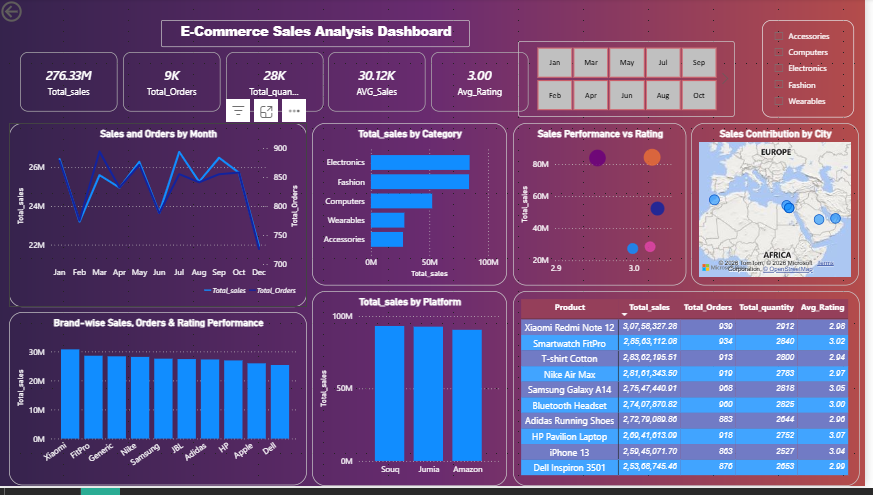

Layout of this report page (visuals, bound fields, positions):
{"tool":"powerbi","page":{"name":"Page 1","canvas":[1280,720],"ordinal":0},"visuals":[{"type":"actionButton","box":[0,0,100,40],"z":0},{"type":"cardVisual","fields":{"Data":["City.Total_sales"]},"box":[32,80,144,88],"z":1000},{"type":"cardVisual","fields":{"Data":["City.Total_Orders"]},"box":[184,80,144,88],"z":2000},{"type":"cardVisual","fields":{"Data":["City.Total_quantity"]},"box":[336,80,144,88],"z":3000},{"type":"cardVisual","fields":{"Data":["City.AVG_Sales"]},"box":[488,80,144,88],"z":4000},{"type":"cardVisual","fields":{"Data":["City.Avg_Rating"]},"box":[640,80,144,88],"z":5000},{"type":"lineChart","title":"Sales and Orders by Month","fields":{"Y":["City.Total_sales"],"Y2":["City.Total_Orders"],"Category":["calender_table.Month_Name"]},"box":[16,184,440,272],"z":6000},{"type":"clusteredBarChart","fields":{"Category":["products.Category"],"Y":["City.Total_sales"]},"box":[464,184,288,240],"z":7000},{"type":"columnChart","title":"Brand-wise Sales, Orders & Rating Performance","fields":{"Y":["City.Total_sales"],"Category":["products.Brand"]},"box":[16,464,440,256],"z":8000},{"type":"columnChart","fields":{"Category":["Platform.Platform"],"Y":["City.Total_sales"]},"box":[464,432,288,288],"z":9000},{"type":"map","title":"Sales Contribution by City","fields":{"Category":["City.City"],"Size":["City.Total_sales"]},"box":[1024,184,248,240],"z":10000},{"type":"scatterChart","title":"Sales Performance vs Rating","fields":{"X":["City.Avg_Rating"],"Y":["City.Total_sales"],"Size":["City.Total_Orders"],"Series":["products.Category"]},"box":[760,184,256,240],"z":10001},{"type":"pivotTable","fields":{"Rows":["sales.Product"],"Values":["City.Total_sales","City.Total_Orders","City.Total_quantity","City.Avg_Rating"]},"box":[760,432,512,288],"z":10002},{"type":"slicer","fields":{"Values":["calender_table.Month_Name"]},"box":[792,72,328,104],"z":10003},{"type":"slicer","fields":{"Values":["products.Category"]},"box":[1128,32,136,144],"z":10004},{"type":"textbox","title":"E-Commerce Sales Analysis Dashboard","box":[240,32,456,40],"z":10005}]}

Visuals, with their boxes in screenshot pixels (x1, y1, x2, y2), scaled from the page's 1280x720 canvas onto the 873x495 screenshot:
actionButton: box(0, 0, 68, 28)
cardVisual - City.Total_sales: box(22, 55, 120, 116)
cardVisual - City.Total_Orders: box(125, 55, 224, 116)
cardVisual - City.Total_quantity: box(229, 55, 327, 116)
cardVisual - City.AVG_Sales: box(333, 55, 431, 116)
cardVisual - City.Avg_Rating: box(436, 55, 535, 116)
"Sales and Orders by Month" lineChart: box(11, 126, 311, 314)
clusteredBarChart - products.Category x City.Total_sales: box(316, 126, 513, 292)
"Brand-wise Sales, Orders & Rating Performance" columnChart: box(11, 319, 311, 494)
columnChart - Platform.Platform x City.Total_sales: box(316, 297, 513, 494)
"Sales Contribution by City" map: box(698, 126, 868, 292)
"Sales Performance vs Rating" scatterChart: box(518, 126, 693, 292)
pivotTable - sales.Product x City.Total_sales: box(518, 297, 868, 494)
slicer - calender_table.Month_Name: box(540, 50, 764, 121)
slicer - products.Category: box(769, 22, 862, 121)
"E-Commerce Sales Analysis Dashboard" textbox: box(164, 22, 475, 50)
